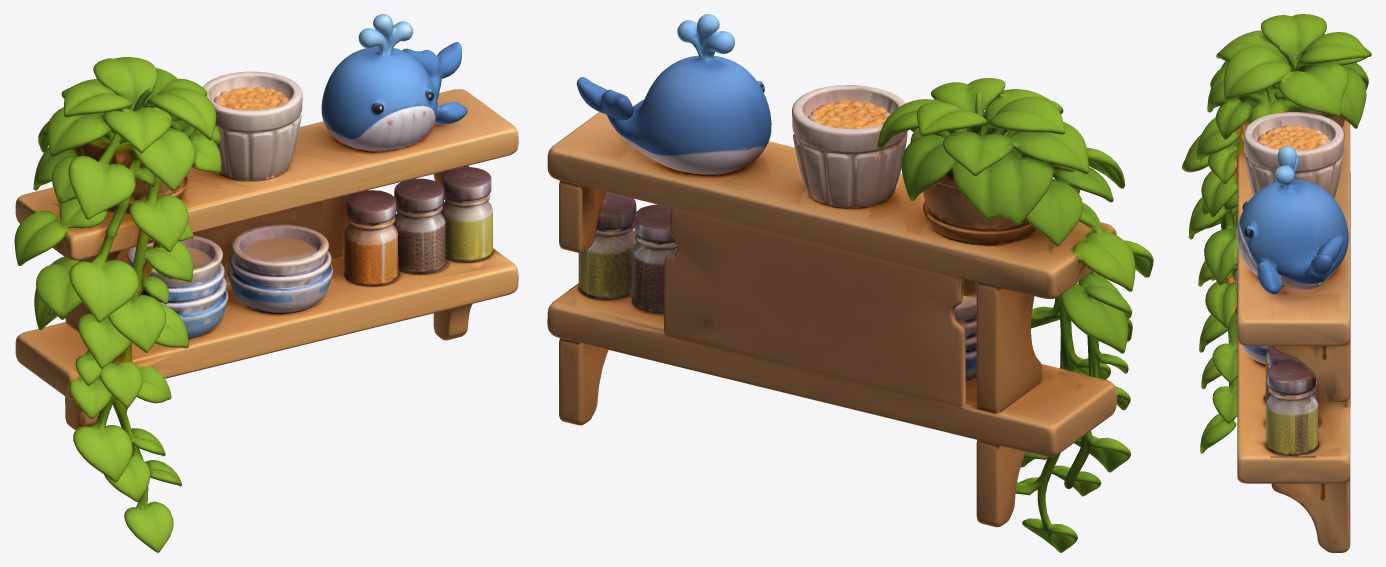
File: wall-shelf.glb
3 views of the same model, side by side, from view 1: azimuth 30°, elevation 25°; view 2: azimuth 150°, elevation 25°; view 3: azimuth 270°, elevation 25° (orthographic). The views are drawn at different scales.
Visible parts, largest first — view 1: 置物架_用户新原件完整网格; view 2: 置物架_用户新原件完整网格; view 3: 置物架_用户新原件完整网格.
Boxes of the visible parts, x1,y1,x2,y2 form: 置物架_用户新原件完整网格: (14,14,518,552); 置物架_用户新原件完整网格: (547,14,1153,552); 置物架_用户新原件完整网格: (1182,14,1371,552).
Bounding box in the file's own units: 1.61 × 1.41 × 0.5558.
Materials: 1 (1 with a texture image).
